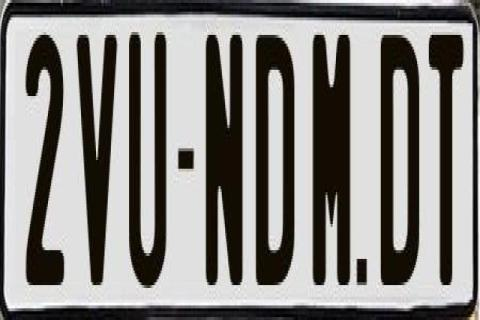0: (22, 32, 64, 288)
D: (255, 32, 294, 288), (381, 26, 420, 282)
M: (311, 32, 353, 282)
N: (203, 27, 243, 280)
T: (427, 32, 465, 282)
U: (128, 24, 166, 282)
V: (75, 26, 115, 276)
